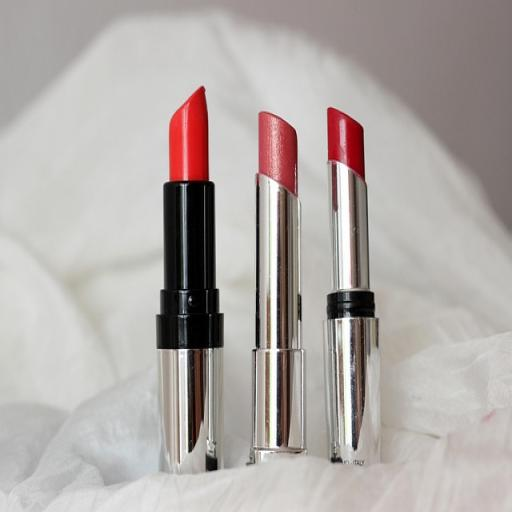lipstick: (156, 88, 223, 473), (324, 108, 380, 465), (249, 113, 306, 462)
